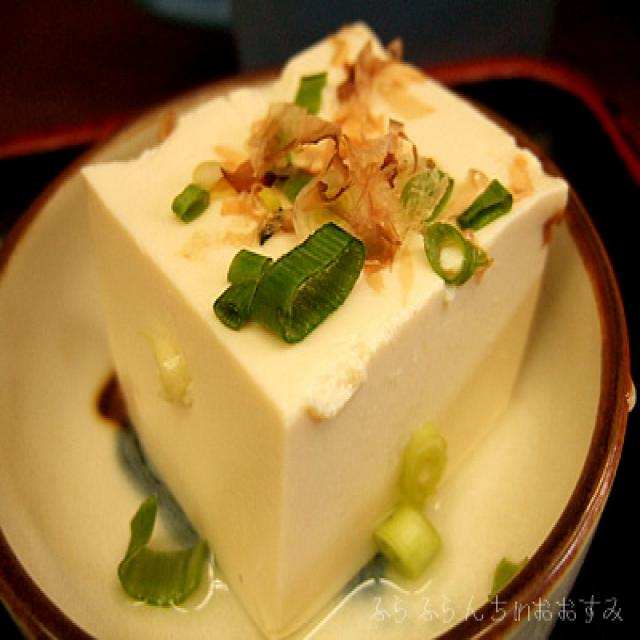豆腐料理: (75, 15, 571, 640)
